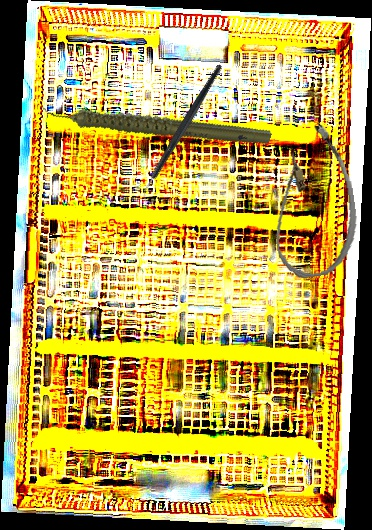Cannula: (261, 121, 364, 282)
Chopper: (105, 63, 260, 207)
Handpiece: (38, 53, 274, 191)
